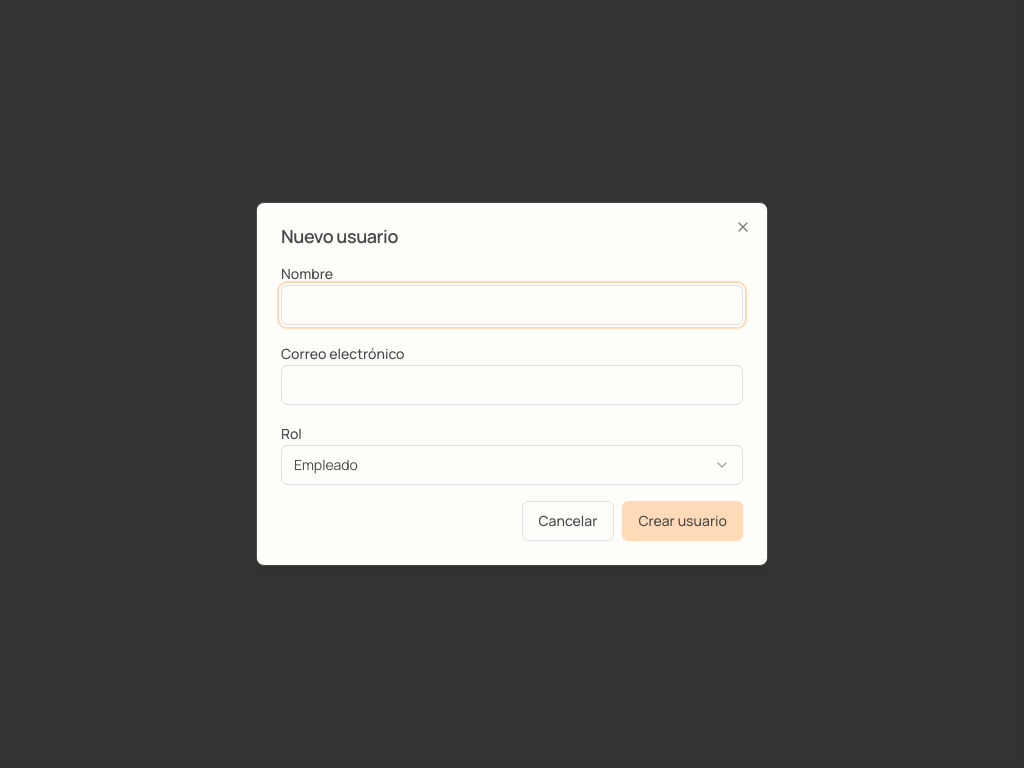
it: UserFormDialog: modo crear › muestra errores de validación al enviar el formulario vacío
Click the button "Crear usuario" at (683, 521), box [622,501,743,541]
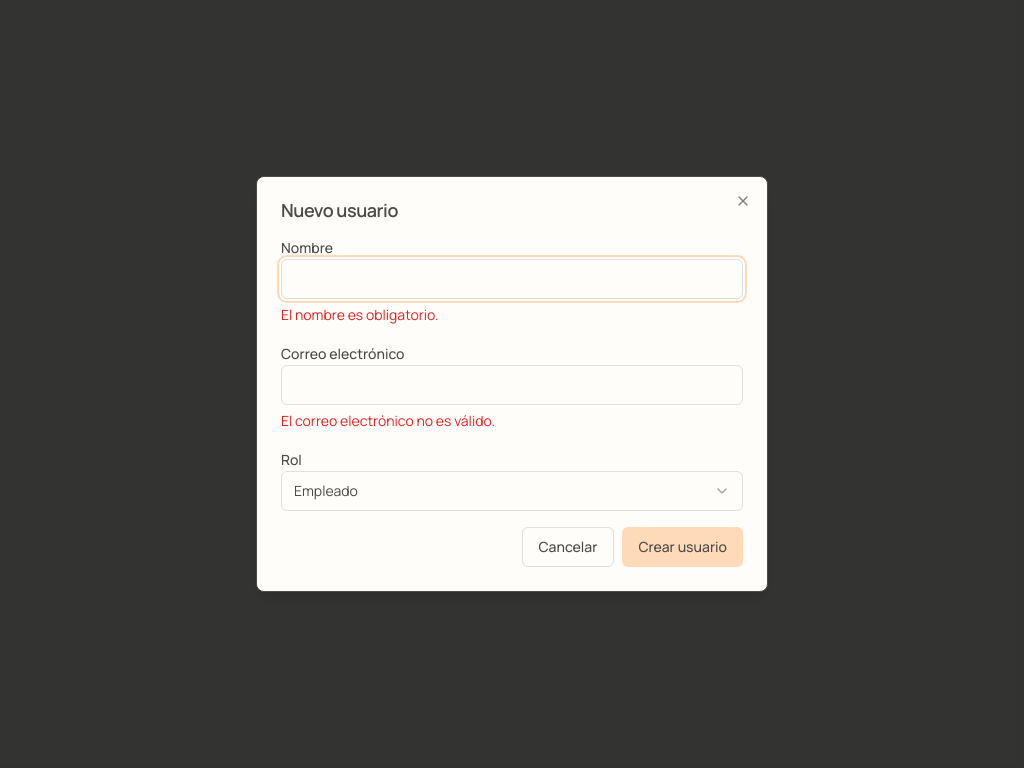
Expected: the message "El nombre es obligatorio." is shown, [281,305,439,324]
